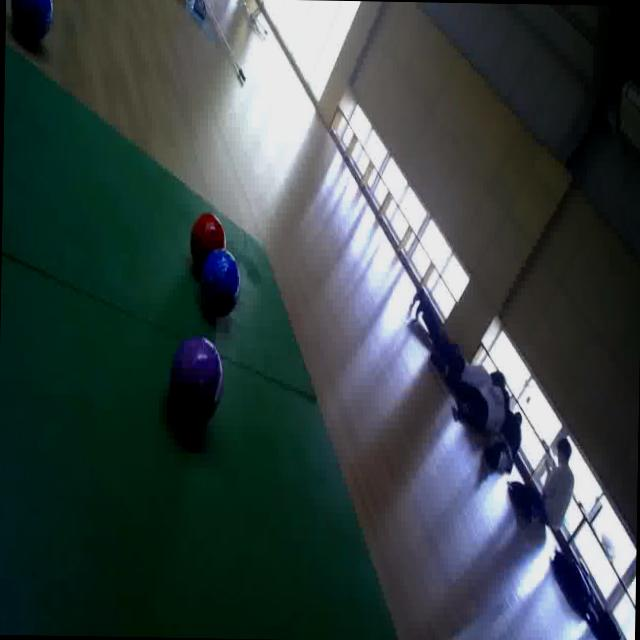blue_ball: (201, 245, 242, 321), (8, 0, 55, 49)
purple_ball: (168, 331, 224, 436)
red_ball: (188, 212, 226, 270)
